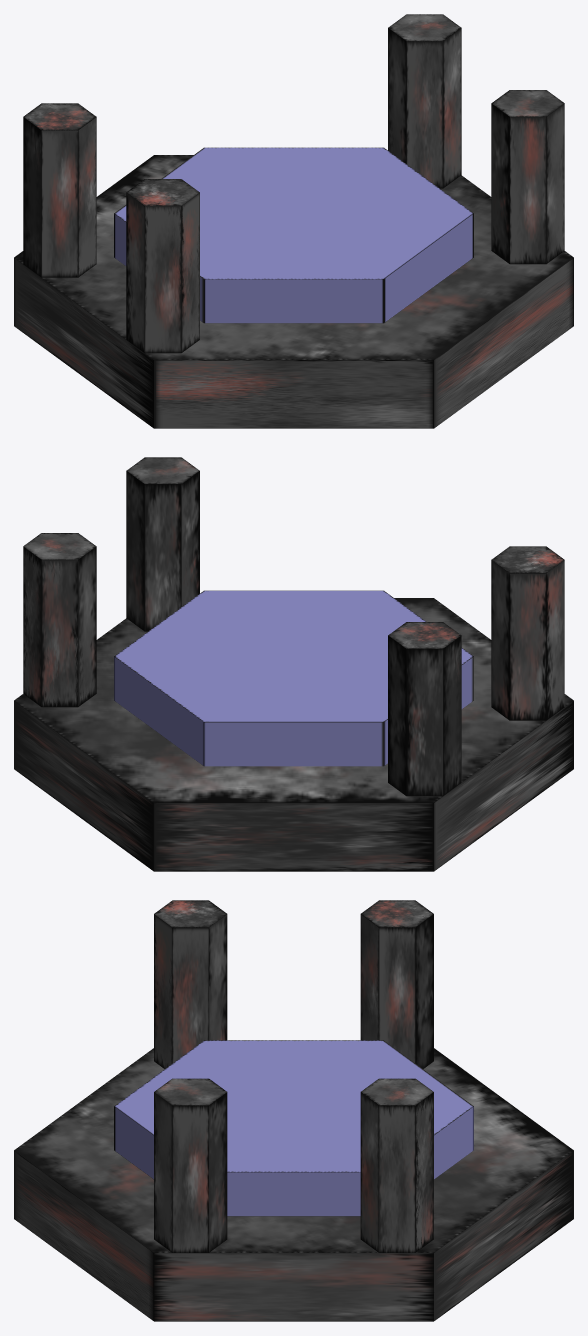
The model's file is bug_plat_00.glb.
The picture shows the model from 3 angles, top to bottom: view 1: azimuth 30°, elevation 25°; view 2: azimuth 150°, elevation 25°; view 3: azimuth 270°, elevation 25°; orthographic projection.
Parts seen in each view (by area): view 1: Cylinder, Cylinder.006, Cylinder.004, Cylinder.005, Cylinder.003, Cylinder.002; view 2: Cylinder, Cylinder.006, Cylinder.005, Cylinder.004, Cylinder.002, Cylinder.003; view 3: Cylinder, Cylinder.006, Cylinder.002, Cylinder.003, Cylinder.004, Cylinder.005.
Boxes of the visible parts, box(x1,y1,x2,y2) form: Cylinder: box(14, 155, 573, 428); Cylinder.006: box(114, 147, 473, 323); Cylinder.004: box(23, 103, 96, 277); Cylinder.005: box(126, 179, 199, 353); Cylinder.003: box(491, 90, 564, 264); Cylinder.002: box(388, 14, 461, 188); Cylinder: box(14, 598, 573, 871); Cylinder.006: box(114, 590, 473, 766); Cylinder.005: box(491, 546, 564, 720); Cylinder.004: box(388, 622, 461, 796); Cylinder.002: box(23, 533, 96, 707); Cylinder.003: box(126, 457, 199, 631); Cylinder: box(14, 1048, 573, 1321); Cylinder.006: box(114, 1040, 473, 1216); Cylinder.002: box(360, 1078, 433, 1252); Cylinder.003: box(154, 1078, 227, 1252); Cylinder.004: box(360, 900, 433, 1068); Cylinder.005: box(154, 900, 227, 1068).
Size of the model in its own units: 6.02 by 2.96 by 6.95.
1 material, 1 textured.
